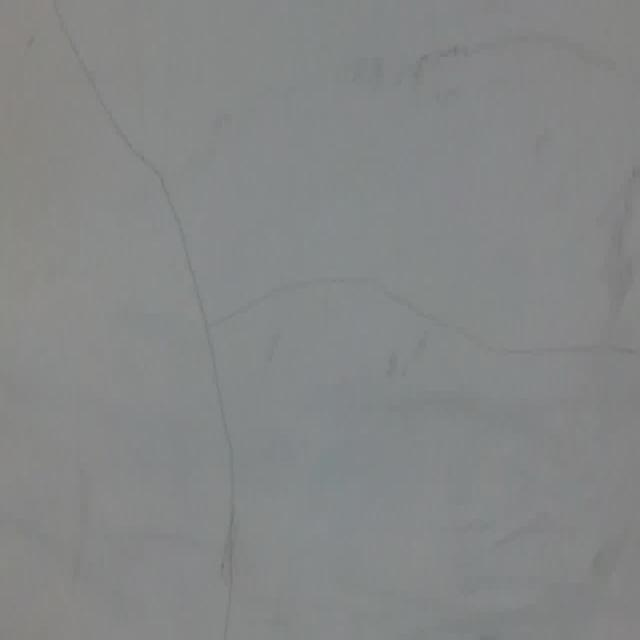Crack: (52, 0, 262, 623), (114, 236, 640, 354)
